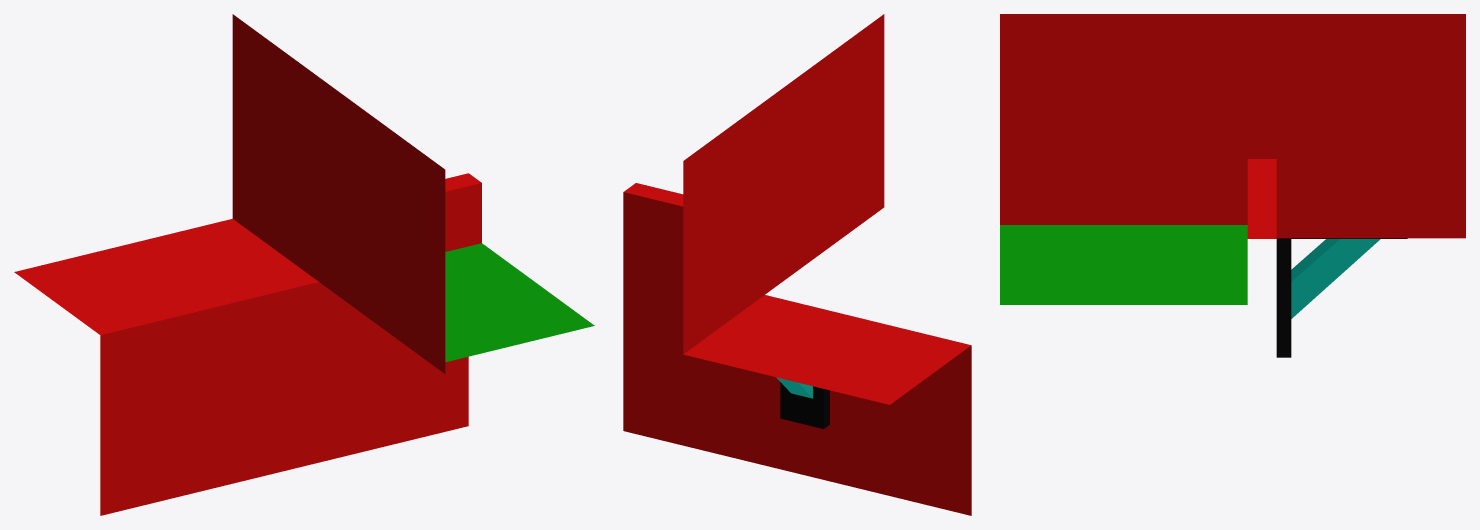
3 views of the same model, side by side, from view 1: azimuth 30°, elevation 25°; view 2: azimuth 150°, elevation 25°; view 3: azimuth 270°, elevation 25° (orthographic). The views are drawn at different scales.
Visible parts, largest first — view 1: None_E_W_E_E_E_A_A_A_None; view 2: None_E_W_E_E_E_A_A_A_None; view 3: None_E_W_E_E_E_A_A_A_None.
Part boxes in pixels (x1,y1,x2,y2): None_E_W_E_E_E_A_A_A_None: [14, 14, 594, 515]; None_E_W_E_E_E_A_A_A_None: [623, 14, 971, 515]; None_E_W_E_E_E_A_A_A_None: [1000, 14, 1465, 357].
Size of the model in its own units: 100 by 100 by 100.
